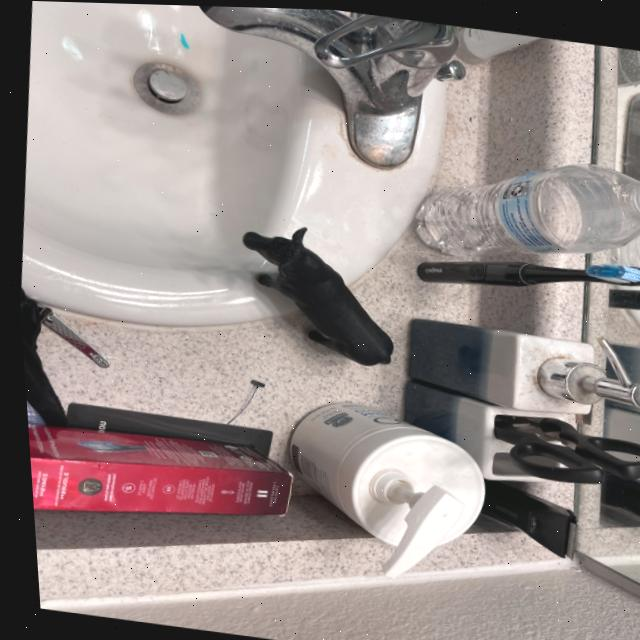cow: (226, 200, 397, 394)
